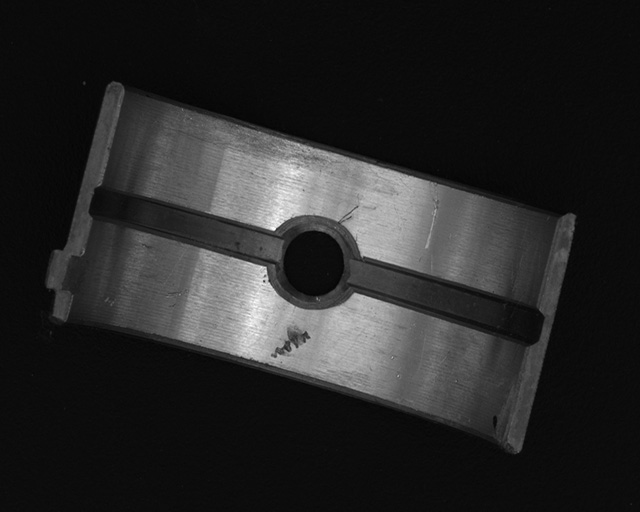blot: (491, 413, 498, 434)
bruise: (269, 323, 311, 358), (165, 287, 189, 299), (101, 296, 116, 308)
gap: (351, 257, 538, 343), (90, 189, 282, 258)
hole: (270, 218, 357, 303)
nick: (423, 180, 439, 250), (337, 205, 359, 223)
scratch: (173, 106, 347, 174)
